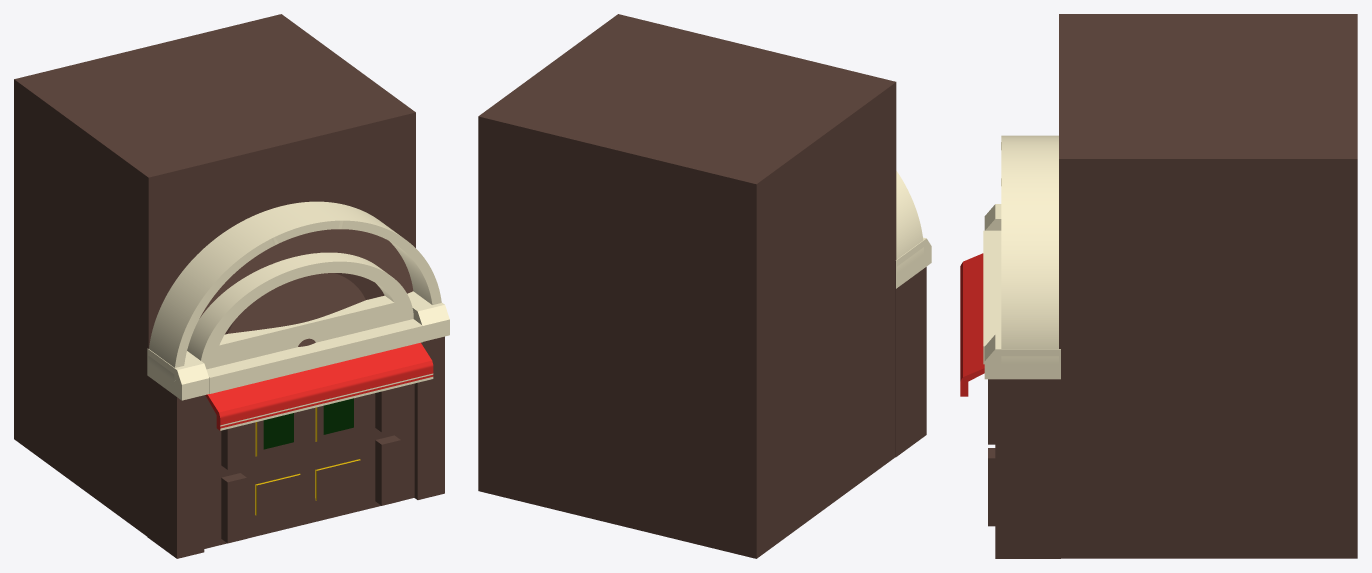
3 views of the same model, side by side, from view 1: azimuth 30°, elevation 25°; view 2: azimuth 150°, elevation 25°; view 3: azimuth 270°, elevation 25° (orthographic). The views are drawn at different scales.
Parts seen in each view (by area): view 1: B1; view 2: B1; view 3: B1.
Part boxes in pixels (box(x1,y1,x2,y2)): B1: box(14, 14, 449, 558); B1: box(478, 14, 931, 558); B1: box(960, 14, 1357, 558).
Size of the model in its own units: 3577 by 4587 by 4132.
